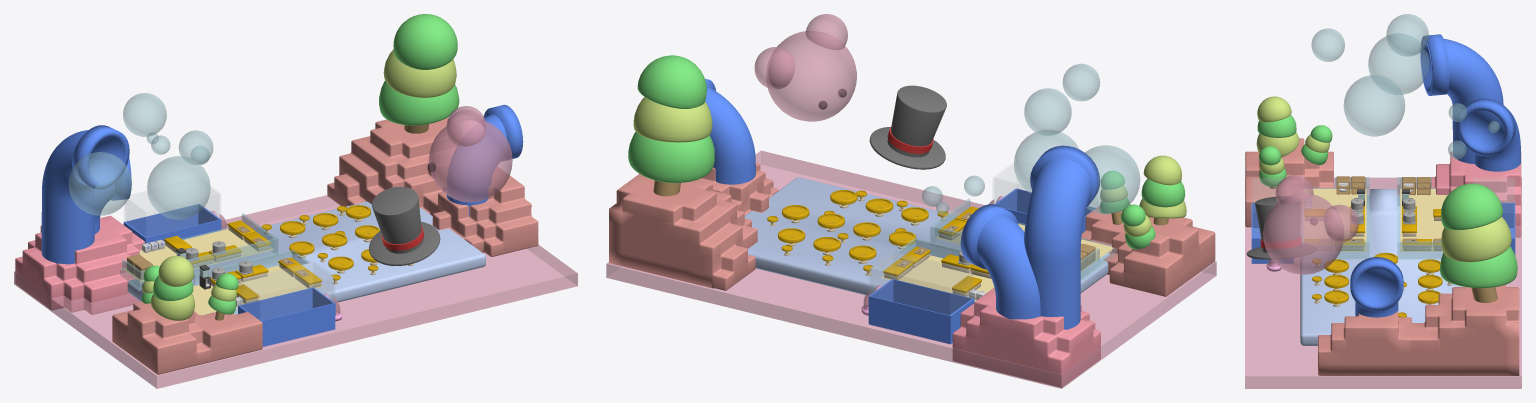
Rendered from world_stage02_250323_03.fbx.
3 views of the same model, side by side, from view 1: azimuth 30°, elevation 25°; view 2: azimuth 150°, elevation 25°; view 3: azimuth 270°, elevation 25° (orthographic). The views are drawn at different scales.
Parts seen in each view (by area): view 1: world_floor, map_floor, pipe01, tree01, JellyMachine_B, JellyBear, kitchen_floor, pipe02, hat, JellyMachine_A, Bubble_02, Bubble_01 (+8 smaller); view 2: world_floor, pipe01, map_floor, tree01, JellyBear, JellyMachine_A, hat, kitchen_floor, JellyTable, pipe02, Bubble_01, tree02 (+9 smaller); view 3: world_floor, pipe01, map_floor, tree01, JellyBear, kitchen_floor, Bubble_02, Bubble_01, hat, pipe02, tree02, JellyTable (+13 smaller).
Boxes of the visible parts, <box> form: world_floor: <box>14,117,577,388</box>; map_floor: <box>127,201,485,314</box>; pipe01: <box>41,125,131,264</box>; tree01: <box>379,14,459,133</box>; JellyMachine_B: <box>238,261,341,346</box>; JellyBear: <box>427,106,512,202</box>; kitchen_floor: <box>120,213,323,315</box>; pipe02: <box>446,104,523,216</box>; hat: <box>369,186,440,265</box>; JellyMachine_A: <box>123,187,227,243</box>; Bubble_02: <box>147,156,210,219</box>; Bubble_01: <box>68,152,131,215</box>; world_floor: <box>606,150,1216,388</box>; pipe01: <box>960,145,1100,329</box>; map_floor: <box>744,177,1110,301</box>; tree01: <box>628,55,714,196</box>; JellyBear: <box>754,14,856,121</box>; JellyMachine_A: <box>861,251,974,344</box>; hat: <box>869,85,946,169</box>; kitchen_floor: <box>881,198,1116,301</box>; JellyTable: <box>778,190,928,263</box>; pipe02: <box>705,78,755,184</box>; Bubble_01: <box>1085,145,1140,214</box>; tree02: <box>1139,155,1186,225</box>; world_floor: <box>1245,138,1521,388</box>; pipe01: <box>1420,34,1520,171</box>; map_floor: <box>1300,189,1464,345</box>; tree01: <box>1440,183,1517,302</box>; JellyBear: <box>1263,175,1358,274</box>; kitchen_floor: <box>1303,177,1447,259</box>; Bubble_02: <box>1343,75,1405,136</box>; Bubble_01: <box>1368,33,1429,94</box>; hat: <box>1246,196,1316,259</box>; pipe02: <box>1350,257,1403,317</box>; tree02: <box>1256,96,1299,157</box>; JellyTable: <box>1324,252,1442,306</box>.
Size of the model in its own units: 3439 by 1660 by 2000.
